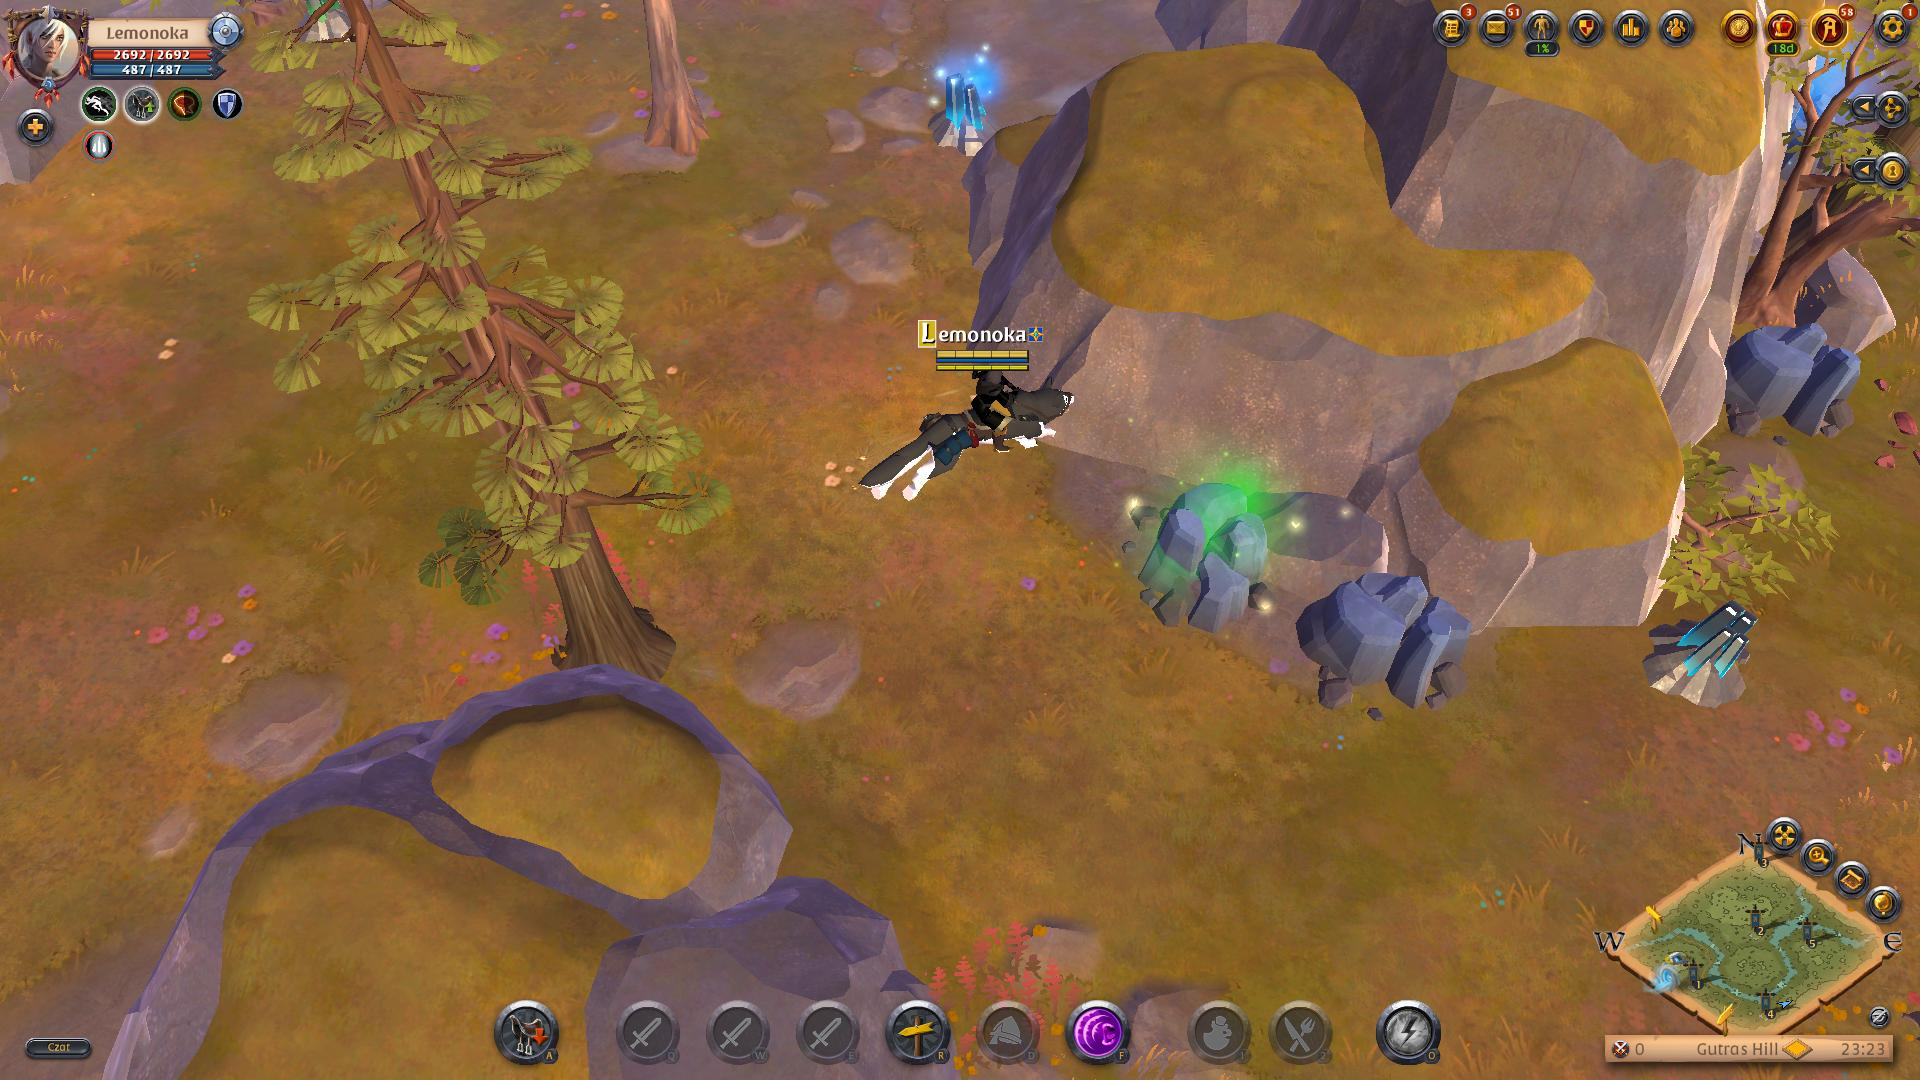ore tier 4: (1644, 605, 1768, 716), (916, 65, 1002, 158)
rock tier 4: (1290, 560, 1482, 709), (1133, 468, 1283, 638), (1720, 314, 1870, 450)
